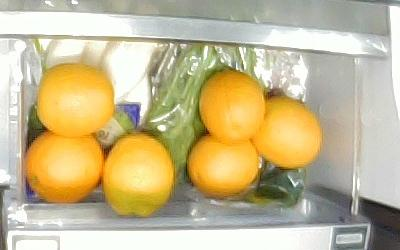orange: (25, 129, 104, 203), (102, 133, 173, 215), (36, 65, 114, 134), (250, 95, 322, 166), (200, 69, 266, 142), (188, 132, 259, 195)
